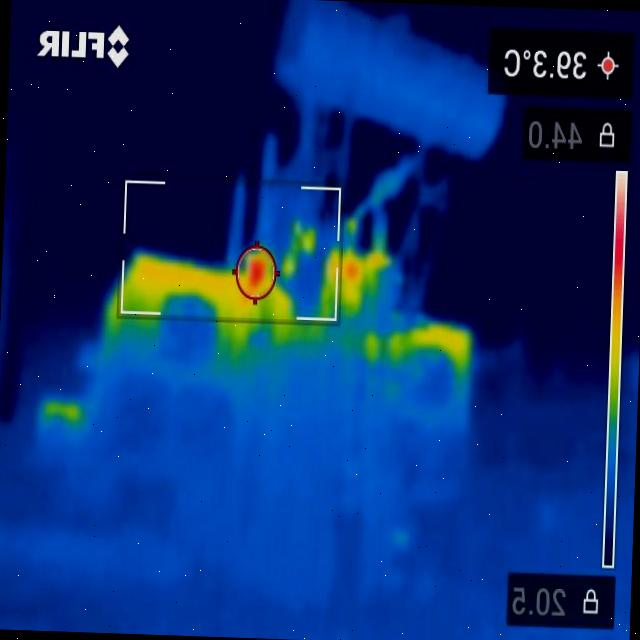loose_joint_red: (341, 246, 362, 309), (364, 245, 388, 298), (246, 252, 268, 283)
